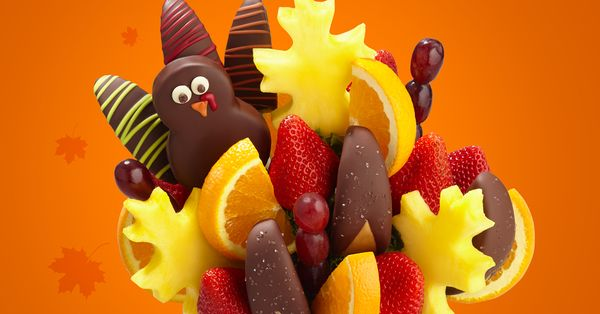taco: (197, 137, 296, 263)
